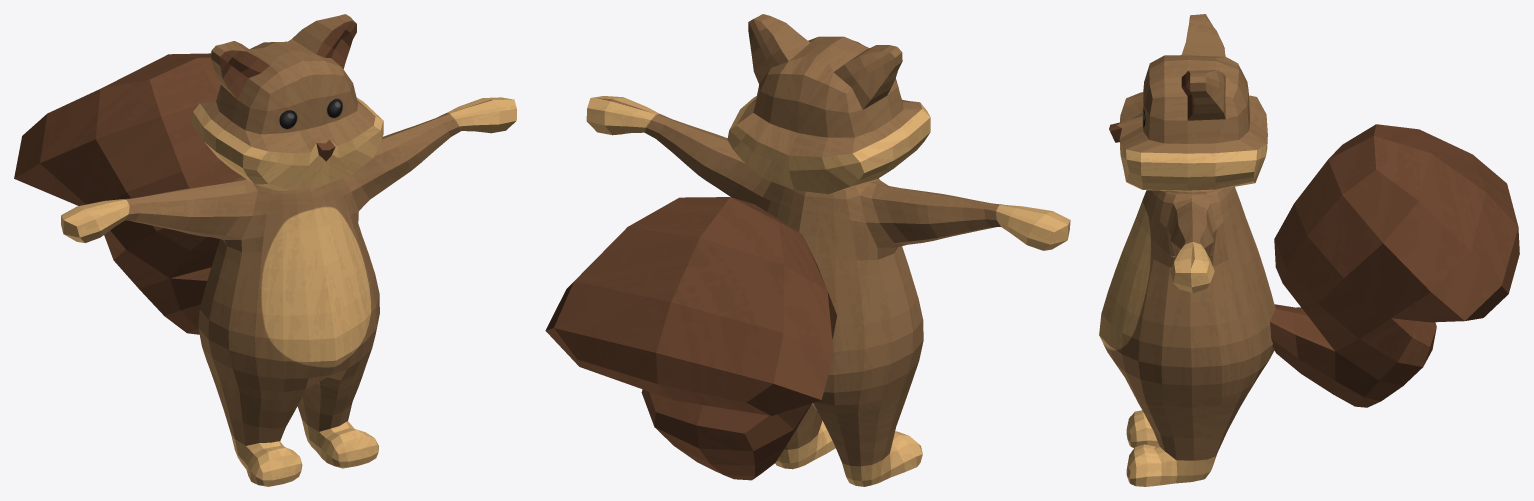
File: model_SquirrelRig.fbx
The picture shows the model from 3 angles, left to right: view 1: azimuth 30°, elevation 25°; view 2: azimuth 150°, elevation 25°; view 3: azimuth 270°, elevation 25°; orthographic projection. The views are drawn at different scales.
Parts seen in each view (by area): view 1: SM_Squirrel; view 2: SM_Squirrel; view 3: SM_Squirrel.
Part boxes in pixels (left/top/right/bottom): SM_Squirrel: left=14, top=14, right=516, bottom=486; SM_Squirrel: left=545, top=14, right=1070, bottom=486; SM_Squirrel: left=1099, top=14, right=1519, bottom=486.
Size of the model in its own units: 6.57 by 5.85 by 5.35.
